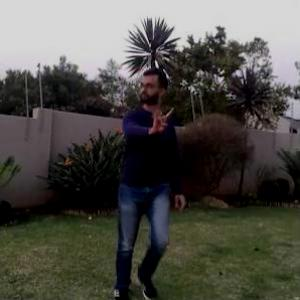takeoff-hand: (143, 103, 175, 135)
